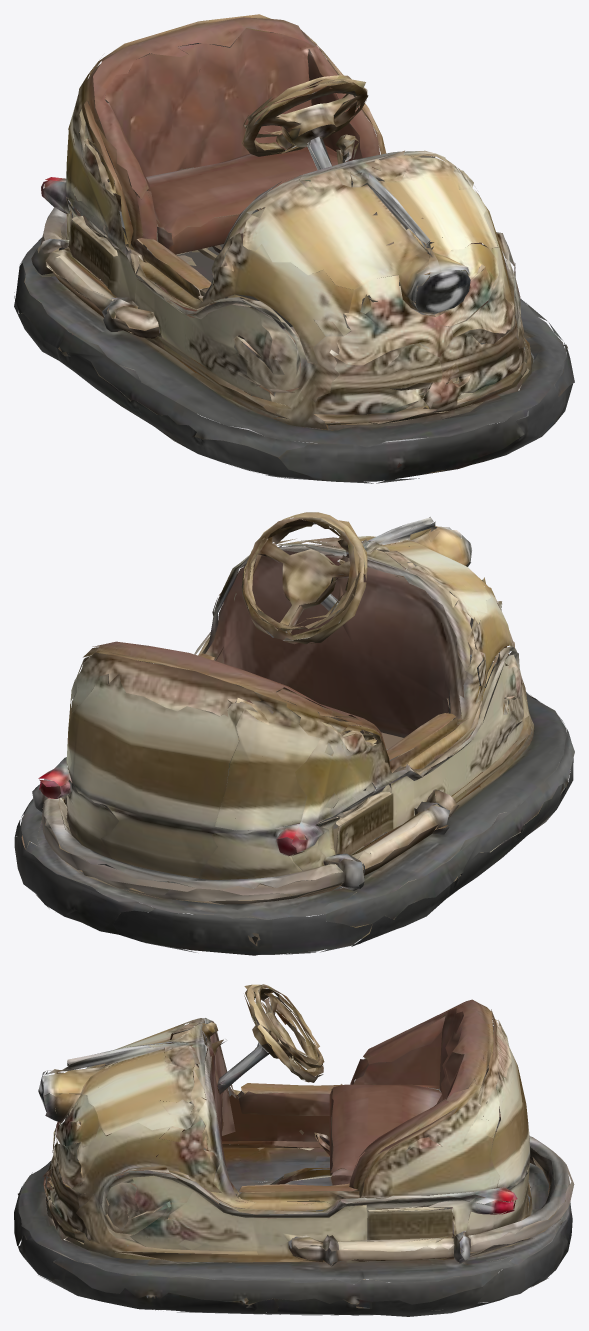
File: park-bumper-gold.glb
3 views of the same model, one above another, from view 1: azimuth 30°, elevation 25°; view 2: azimuth 150°, elevation 25°; view 3: azimuth 270°, elevation 25° (orthographic). The views are drawn at different scales.
Visible parts, largest first — view 1: geometry_0; view 2: geometry_0; view 3: geometry_0.
Boxes of the visible parts, x1,y1,x2,y2 form: geometry_0: [14, 14, 574, 483]; geometry_0: [14, 512, 574, 955]; geometry_0: [14, 984, 574, 1316].
Bounding box in the file's own units: 1.2 × 0.8378 × 1.72.
1 material, 1 textured.
